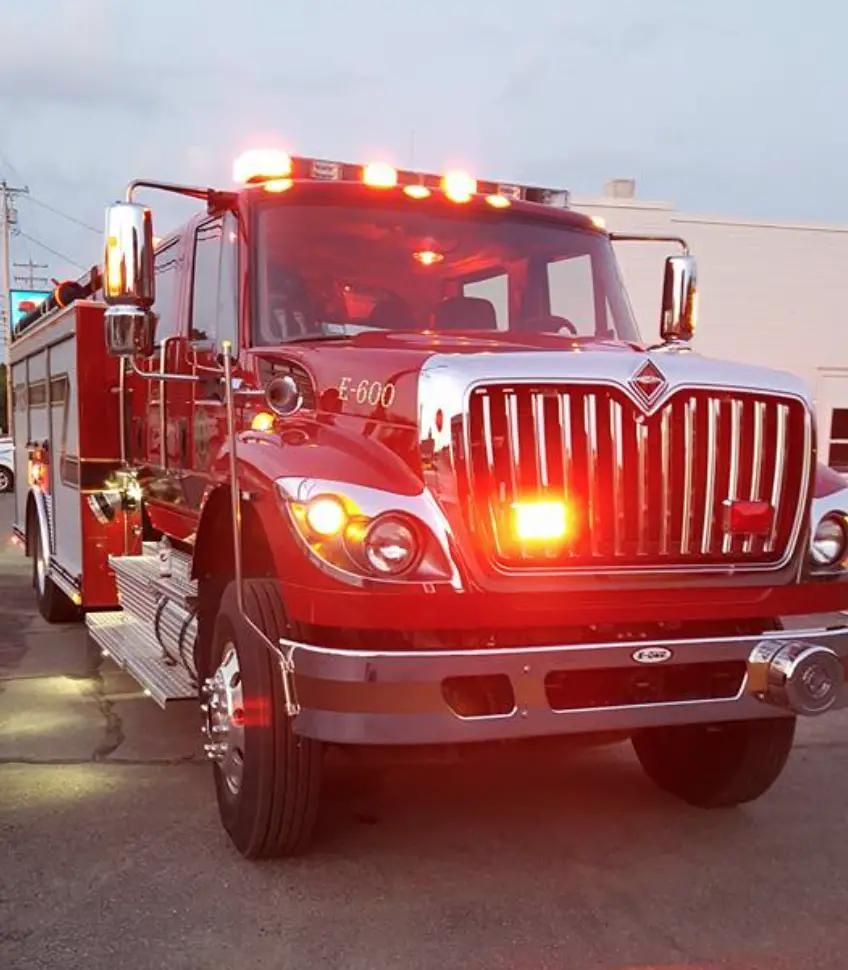Fire-engine: (2, 148, 847, 860)
